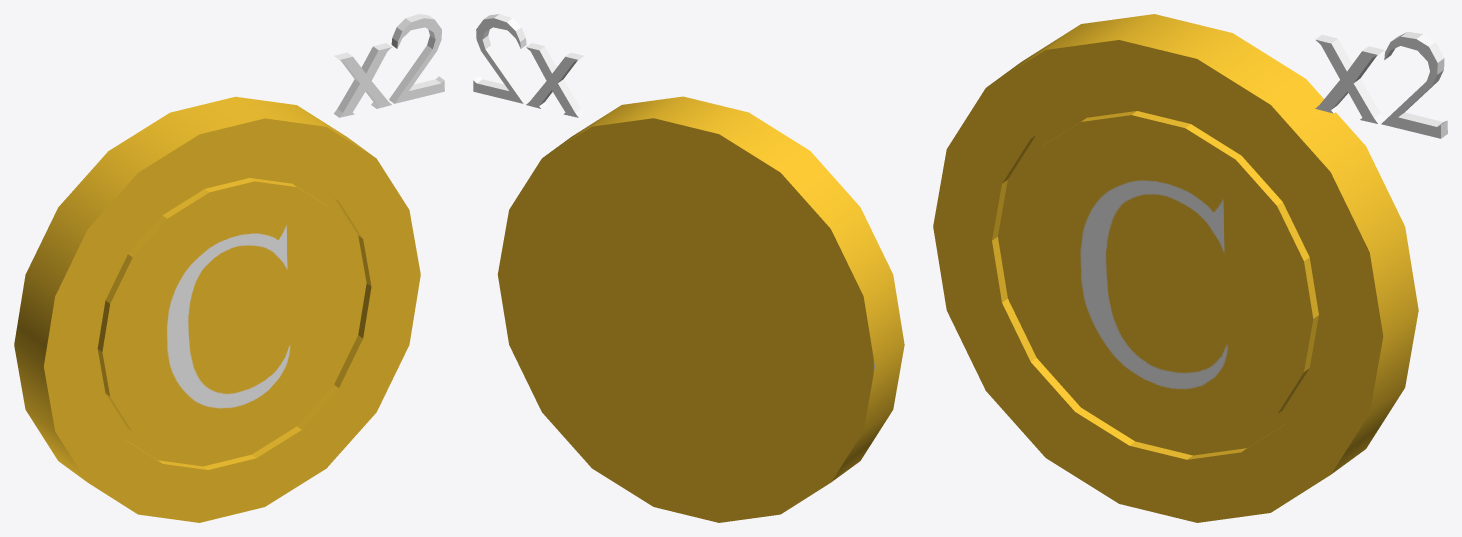
File: coinx2.FBX
3 views of the same model, side by side, from view 1: azimuth 30°, elevation 25°; view 2: azimuth 150°, elevation 25°; view 3: azimuth 330°, elevation 25° (orthographic). The views are drawn at different scales.
Visible parts, largest first — view 1: Cylinder002; view 2: Cylinder002; view 3: Cylinder002.
Part boxes in pixels (x1,y1,x2,y2): Cylinder002: (14,14,444,522); Cylinder002: (473,14,904,522); Cylinder002: (933,14,1447,522).
Bounding box in the file's own units: 31.17 × 31.58 × 3.87.
1 material, 1 textured.
